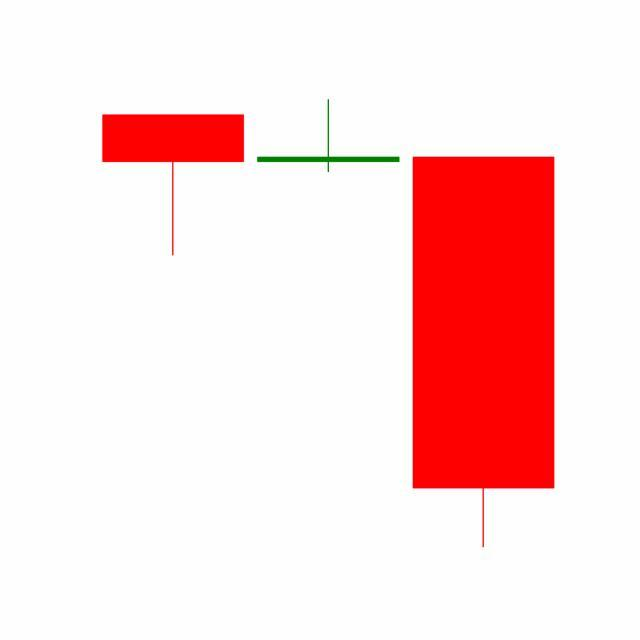Spinning Top: (250, 99, 407, 174)
